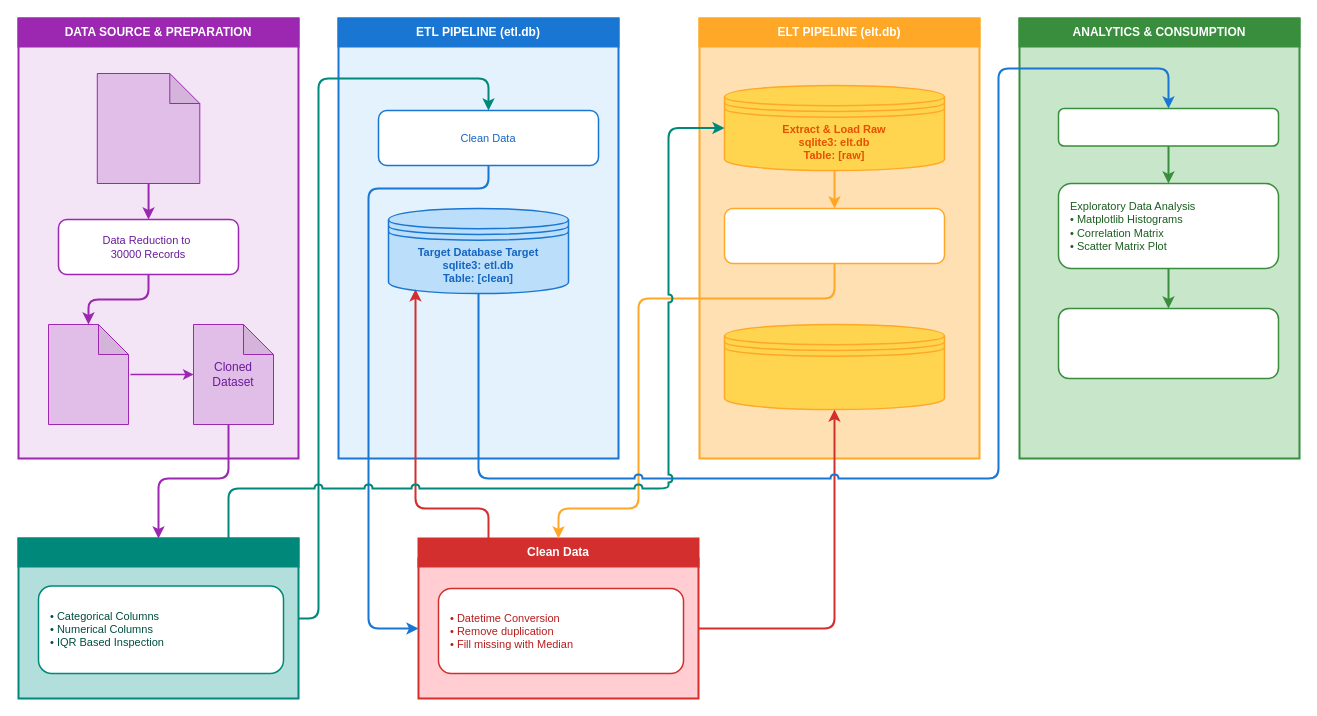
Some shapes in this 1317 by 716 pixel diagram are drawn without their labels. The centre of each missing label's shape, as x and y in pixels:
"Final Database Target sqlite3: elt.db Table: [clean]" belongs at point (834, 366).
"Inspect Data" belongs at point (158, 552).
"Load from ETL" belongs at point (1168, 126).
"Original Student Dataset (CSV)" belongs at point (148, 128).
"Read Data from Raw Table" belongs at point (834, 235).
"Statistical Inference • Welch's t-test • Chi-Square Test" belongs at point (1168, 343).
"Trimmed Dataset" belongs at point (88, 374).
